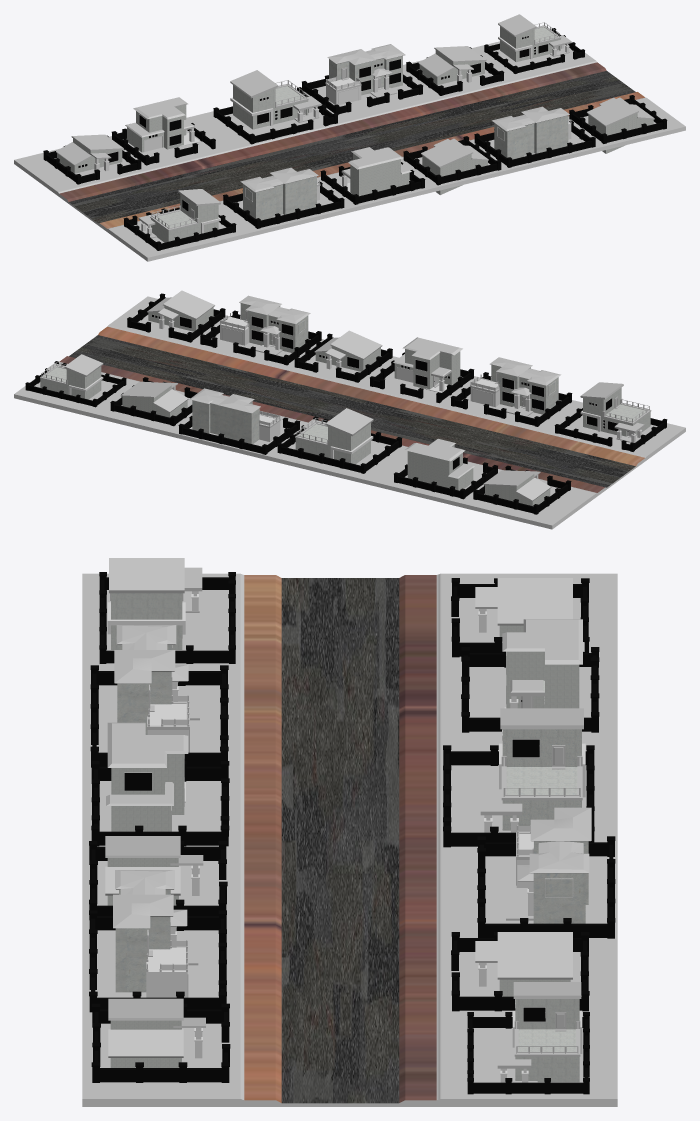
The model's file is street final.fbx.
3 views of the same model, one above another, from view 1: azimuth 30°, elevation 25°; view 2: azimuth 150°, elevation 25°; view 3: azimuth 270°, elevation 25° (orthographic). The views are drawn at different scales.
Visible parts, largest first — view 1: Cube.266, Cube.228, Cube.227, Cube.001, Cube.131, Cube.091, Cube.379, Cube.206, Cube.065, Cube.310, Cube.519, Cube.074 (+35 smaller); view 2: Cube.266, Cube.228, Cube.227, Cube.379, Cube.001, Cube.519, Cube.206, Cube.065, Cube.131, Cube.310, Cube.091, Cube.166 (+39 smaller); view 3: Cube.266, Cube.228, Cube.227, Cube.001, Cube.379, Cube.206, Cube.310, Cube.281, Cube.582, Cube.519, Cube.131, Cube.049 (+34 smaller).
Part boxes in pixels (bbox=[...]): Cube.266: bbox=[14, 61, 685, 261]; Cube.228: bbox=[14, 28, 685, 257]; Cube.227: bbox=[59, 62, 644, 228]; Cube.001: bbox=[341, 147, 411, 196]; Cube.131: bbox=[494, 114, 568, 159]; Cube.091: bbox=[243, 175, 316, 220]; Cube.379: bbox=[125, 97, 194, 152]; Cube.206: bbox=[233, 85, 308, 129]; Cube.065: bbox=[151, 194, 218, 242]; Cube.310: bbox=[500, 26, 560, 62]; Cube.519: bbox=[329, 56, 402, 95]; Cube.074: bbox=[225, 186, 340, 227]; Cube.266: bbox=[14, 325, 685, 529]; Cube.228: bbox=[14, 296, 685, 525]; Cube.227: bbox=[59, 326, 644, 492]; Cube.379: bbox=[404, 438, 474, 490]; Cube.001: bbox=[393, 337, 462, 389]; Cube.519: bbox=[192, 400, 259, 444]; Cube.206: bbox=[295, 423, 370, 464]; Cube.065: bbox=[583, 387, 650, 436]; Cube.131: bbox=[240, 303, 308, 352]; Cube.310: bbox=[40, 366, 101, 399]; Cube.091: bbox=[491, 365, 558, 414]; Cube.166: bbox=[281, 420, 398, 472]; Cube.266: bbox=[82, 573, 617, 1106]; Cube.228: bbox=[82, 573, 617, 1098]; Cube.227: bbox=[244, 575, 436, 1102]; Cube.001: bbox=[106, 722, 188, 831]; Cube.379: bbox=[502, 619, 584, 708]; Cube.206: bbox=[502, 729, 581, 830]; Cube.310: bbox=[515, 999, 579, 1082]; Cube.281: bbox=[497, 932, 572, 979]; Cube.582: bbox=[497, 578, 572, 625]; Cube.519: bbox=[533, 841, 588, 923]; Cube.131: bbox=[115, 890, 170, 992]; Cube.049: bbox=[109, 558, 184, 593].
Bounding box in the file's own units: 28212 × 2691 × 12145.
